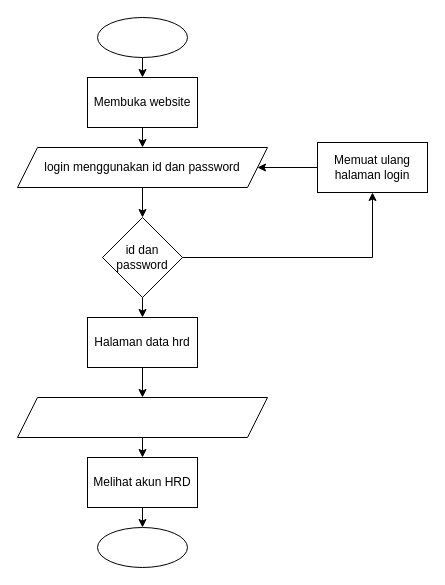
Some shapes in this 445 by 585 pixel diagram are drawn without their labels. The shapes that lost their labels are listed below. From the top down, each one's box as (x1, y1, x2, y2) in pixels, then its label:
(96, 16, 188, 58): Mulai
(16, 396, 268, 438): Input data HRD
(96, 526, 188, 568): Selesai
